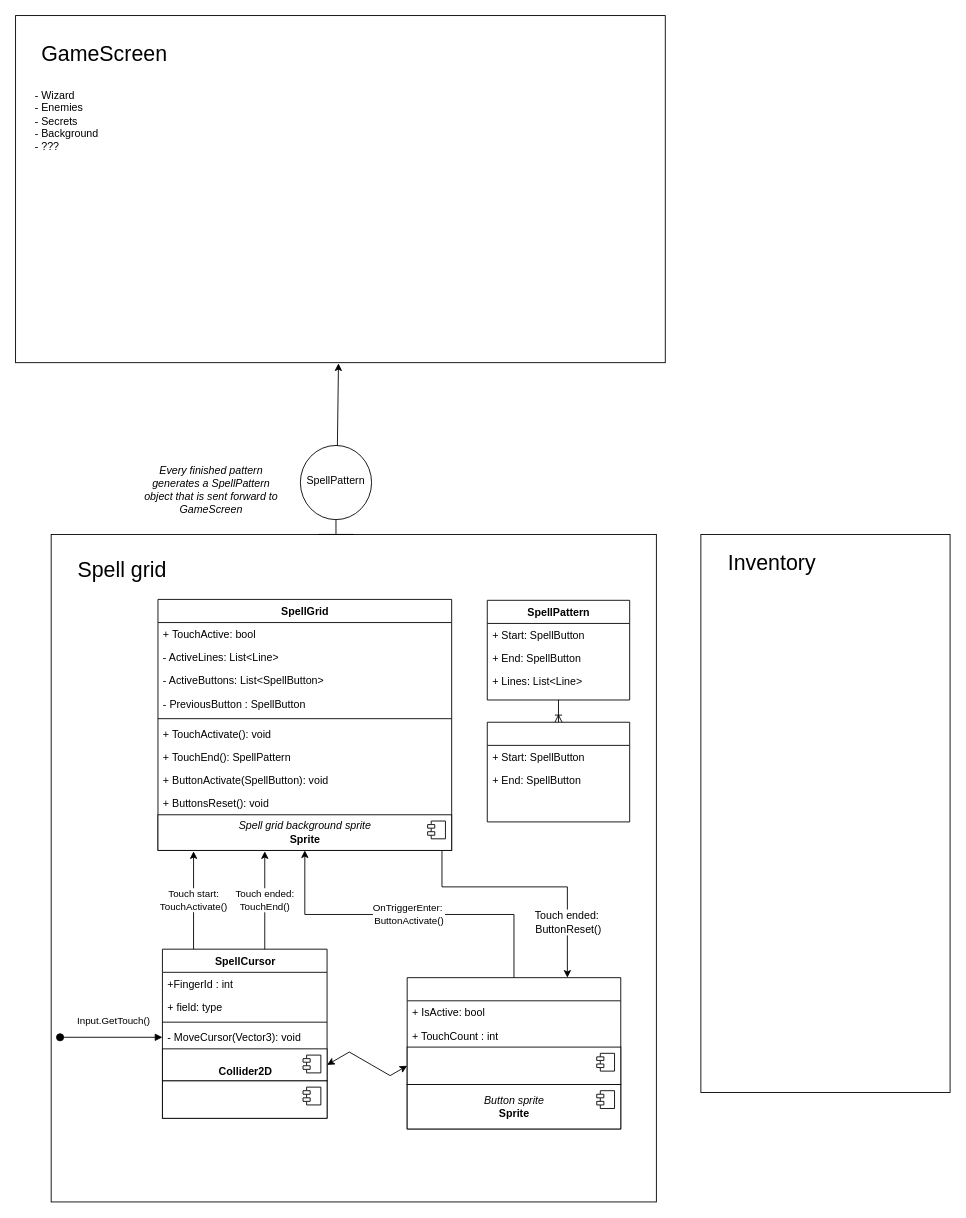
The diagram is 966 pixels wide and 1218 high, and some of its shapes have lost their labels. The shapes that lost their labels are listed below. From the top down, each one's box as (x1, y1, x2, y2) in pixels, then its label:
(486, 721, 630, 822): Line
(406, 977, 621, 1129): SpellButton
(406, 1046, 621, 1084): Collider2D IsTrigger: True
(162, 1080, 327, 1118): Cursor sprite Sprite
